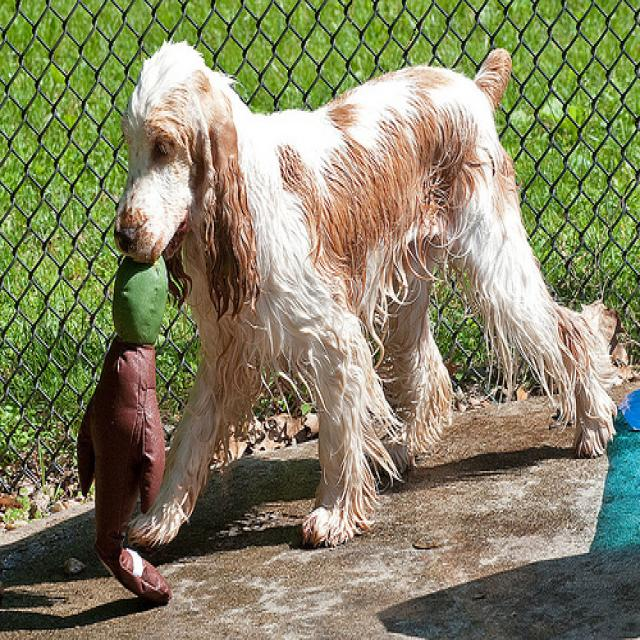dog-english_cocker_spaniel: (106, 34, 630, 558)
